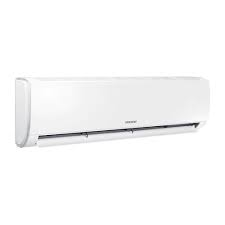ac: (14, 66, 212, 154)
